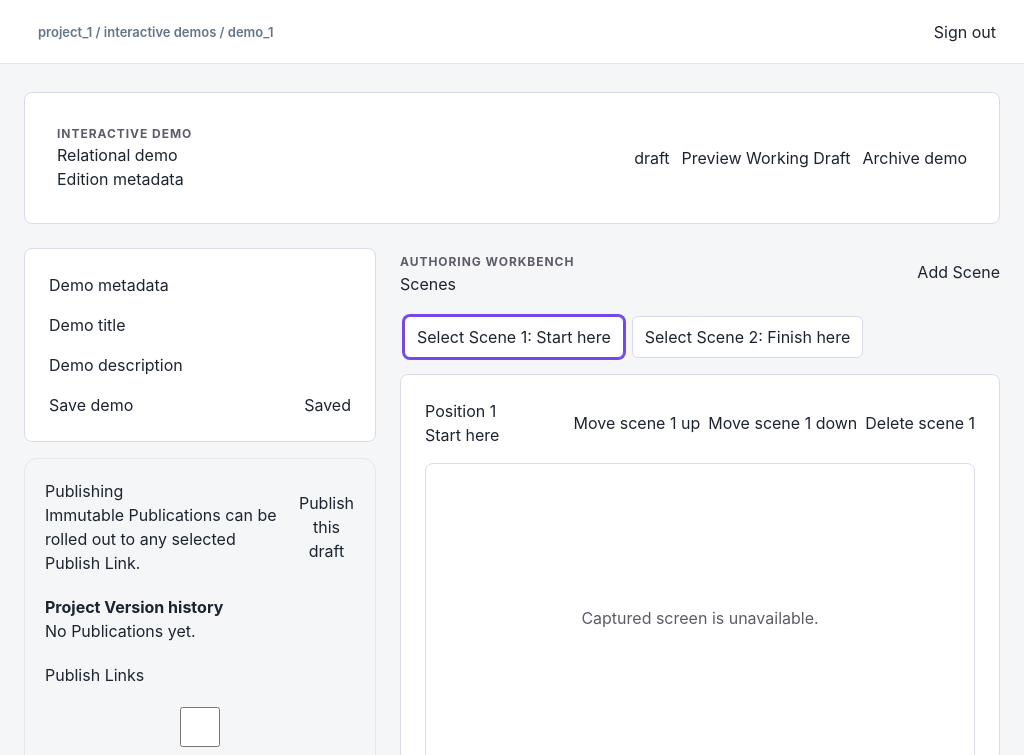
Test case: InteractiveDemoEditorPage › keeps one Scene selected by stable ID in the workbench rail
This screenshot has width=1024, height=755.
Expected: the navigation bar named "Scene rail" is shown, [404,316,863,358]
Expected: the heading "Start here" is shown, [425,423,500,447]
Click the button "Select Scene 2: Finish here" at (748, 337), box [632,316,863,358]
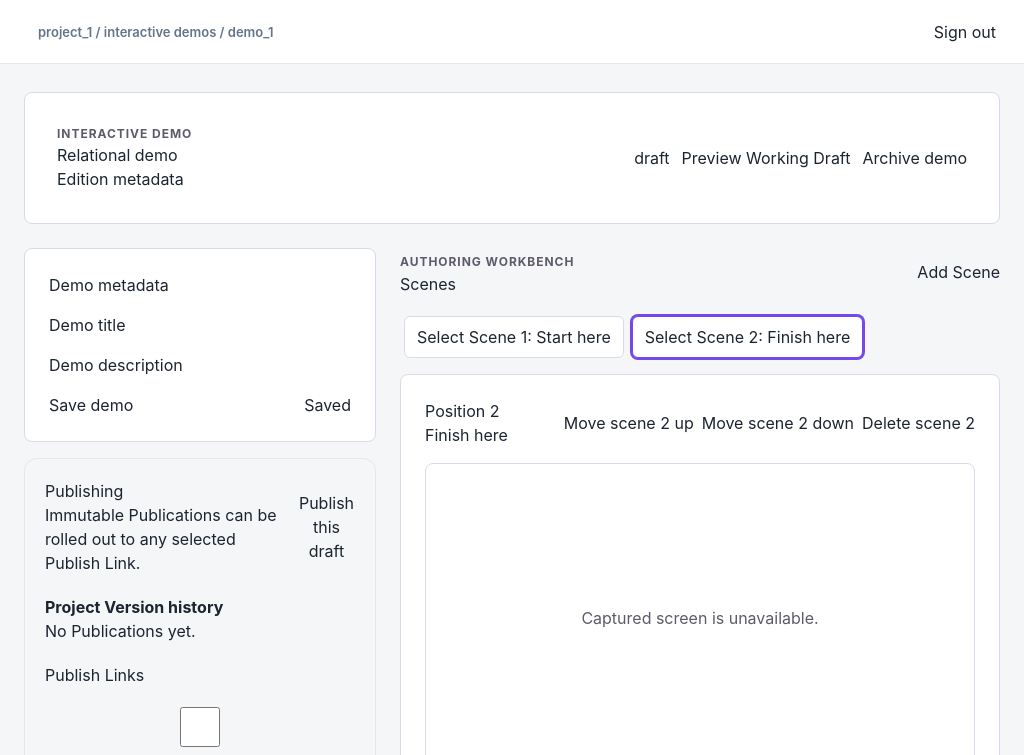
Expected: the heading "Finish here" is shown, [425,423,508,447]
